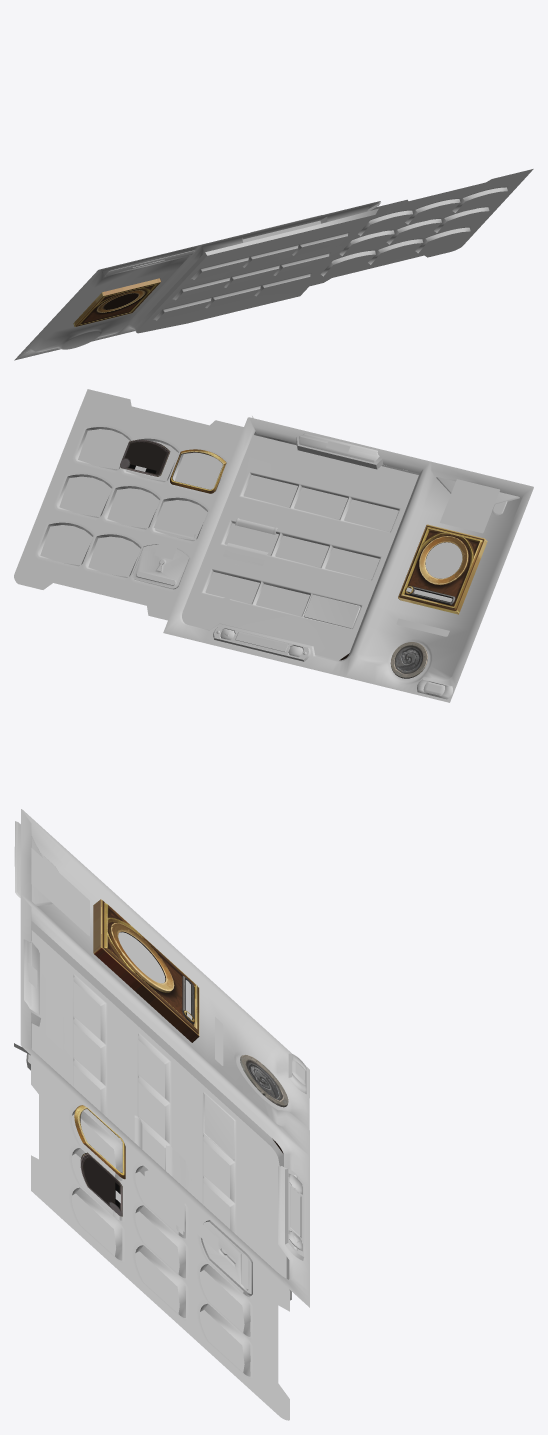
The model's file is moshi.FBX.
The picture shows the model from 3 angles, top to bottom: view 1: azimuth 30°, elevation 25°; view 2: azimuth 150°, elevation 25°; view 3: azimuth 270°, elevation 25°; orthographic projection. The views are drawn at different scales.
Visible parts, largest first — view 1: 6ae8b68.obj, 6aef788.obj, 6af1290.obj, 6aec178.obj; view 2: 6ae8b68.obj, 6aef788.obj, 6af1290.obj, 6aec178.obj, 6b6e2a8.obj, 1c8b7230.obj, 1c8d7230.obj, 6ae7060.obj, 1c894ba8.obj, 6aea670.obj, 1c8b3c20.obj, 6ae5558.obj (+4 smaller); view 3: 6aef788.obj, 6ae8b68.obj, 6af1290.obj, 6aec178.obj, 6b6e2a8.obj, 1c8b7230.obj, 1c8d7230.obj, 6ae7060.obj, 1c894ba8.obj, 6aea670.obj, 1c8b3c20.obj, 6ae5558.obj (+1 smaller).
Part boxes in pixels (x1,y1,x2,y2): 6ae8b68.obj: [134, 208, 378, 333]; 6aef788.obj: [310, 169, 533, 285]; 6af1290.obj: [14, 201, 380, 360]; 6aec178.obj: [73, 278, 161, 326]; 6ae8b68.obj: [182, 431, 419, 660]; 6aef788.obj: [14, 389, 255, 620]; 6af1290.obj: [163, 416, 533, 702]; 6aec178.obj: [398, 524, 487, 614]; 6b6e2a8.obj: [440, 479, 499, 533]; 1c8b7230.obj: [132, 544, 189, 589]; 1c8d7230.obj: [120, 439, 170, 476]; 6ae7060.obj: [303, 594, 360, 628]; 1c894ba8.obj: [153, 500, 202, 537]; 6aea670.obj: [390, 642, 427, 678]; 1c8b3c20.obj: [425, 542, 462, 578]; 6ae5558.obj: [226, 519, 274, 566]; 6aef788.obj: [31, 1055, 289, 1420]; 6ae8b68.obj: [26, 921, 291, 1300]; 6af1290.obj: [14, 809, 309, 1307]; 6aec178.obj: [93, 899, 199, 1042]; 6b6e2a8.obj: [31, 848, 89, 936]; 1c8b7230.obj: [201, 1220, 252, 1295]; 1c8d7230.obj: [80, 1152, 122, 1216]; 6ae7060.obj: [203, 1094, 234, 1160]; 1c894ba8.obj: [144, 1169, 184, 1231]; 6aea670.obj: [240, 1054, 288, 1107]; 1c8b3c20.obj: [118, 932, 165, 983]; 6ae5558.obj: [134, 1117, 191, 1189].
Size of the model in its own units: 0.0923 by 0.0531 by 0.0549.
